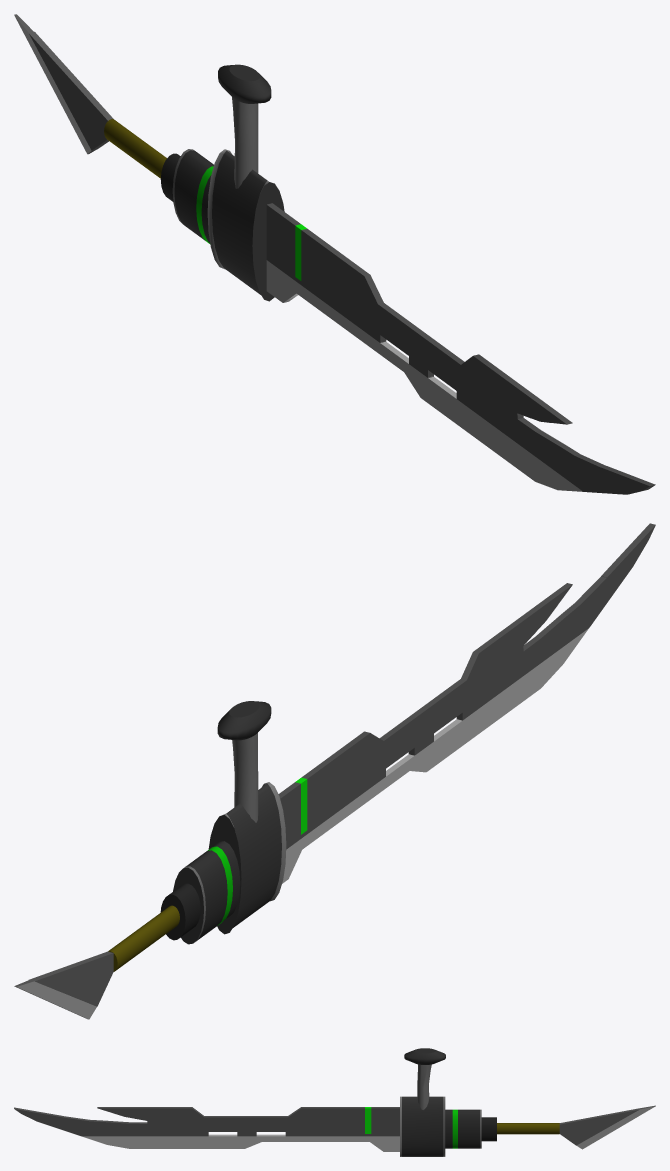
The model's file is CapraBlade.fbx.
3 renders of one model, top to bottom at view 1: azimuth 30°, elevation 25°; view 2: azimuth 150°, elevation 25°; view 3: azimuth 270°, elevation 25°, orthographic. The views are drawn at different scales.
Visible parts, largest first — view 1: pCube59; view 2: pCube59; view 3: pCube59.
Part boxes in pixels (left/top/right/bottom): pCube59: left=14, top=14, right=655, bottom=494; pCube59: left=14, top=523, right=655, bottom=1019; pCube59: left=14, top=1048, right=655, bottom=1156.
Bounding box in the file's own units: 0.7333 × 4.32 × 23.7.
